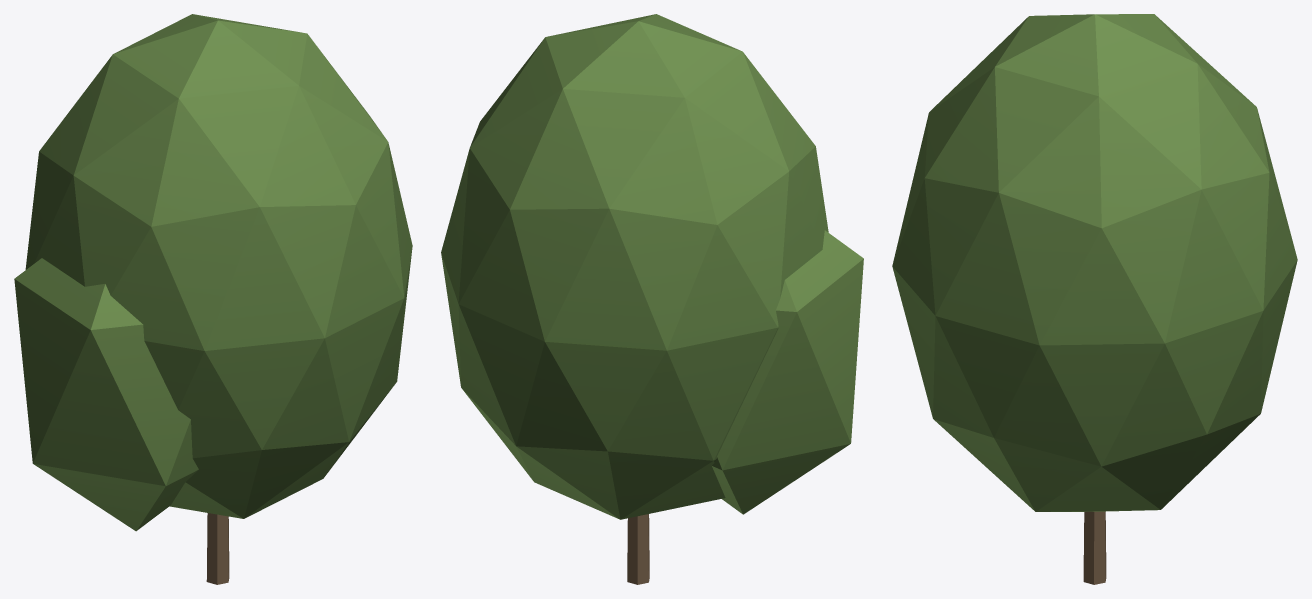
3 views of the same model, side by side, from view 1: azimuth 30°, elevation 25°; view 2: azimuth 150°, elevation 25°; view 3: azimuth 270°, elevation 25° (orthographic).
Parts seen in each view (by area): view 1: tree_13005; view 2: tree_13005; view 3: tree_13005.
Part boxes in pixels (x1=…): tree_13005: x1=14, y1=14, x2=412, y2=584; tree_13005: x1=441, y1=14, x2=863, y2=584; tree_13005: x1=892, y1=14, x2=1297, y2=584.
Bounding box in the file's own units: 6.45 × 9.41 × 6.12.
